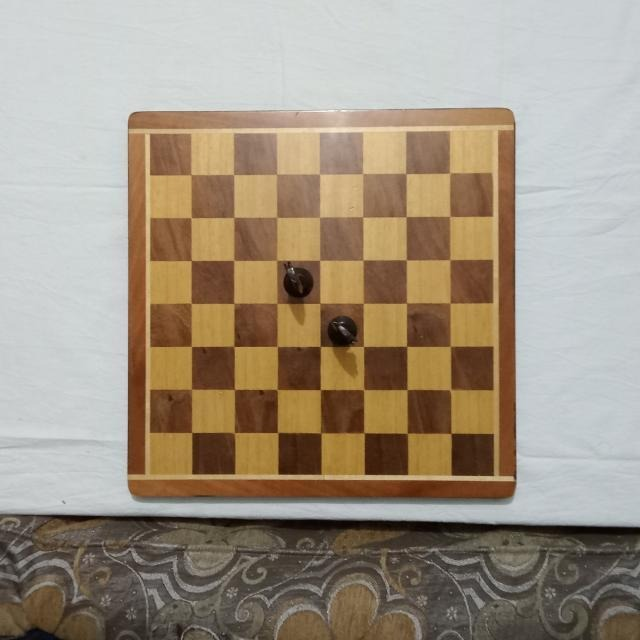black-knight: (281, 260, 316, 300), (325, 315, 359, 349)
